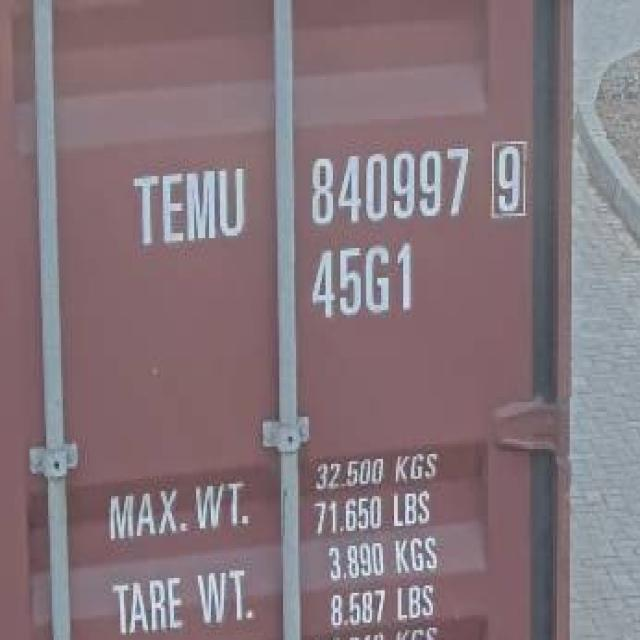dv: (484, 131, 536, 221)
owner: (125, 159, 251, 250)
serial: (300, 138, 474, 226)
size: (306, 239, 426, 321)
